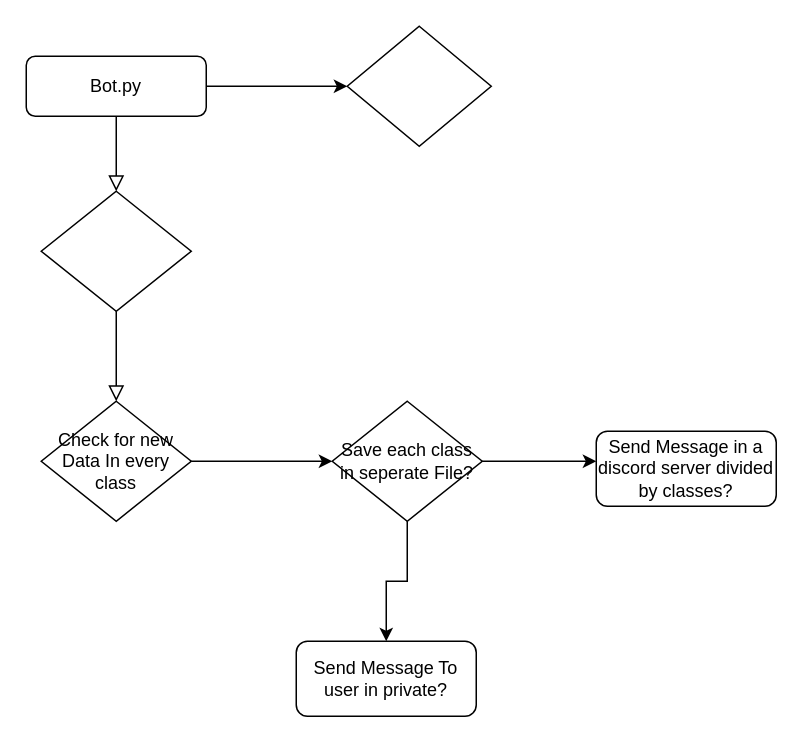
This 803x743 diagram has some shape labels left out. The centre of each missing label's shape, as x and y in pixels:
"Beit Biram Scraper" belongs at (115,250).
"Ironi H Scraper" belongs at (418,85).
